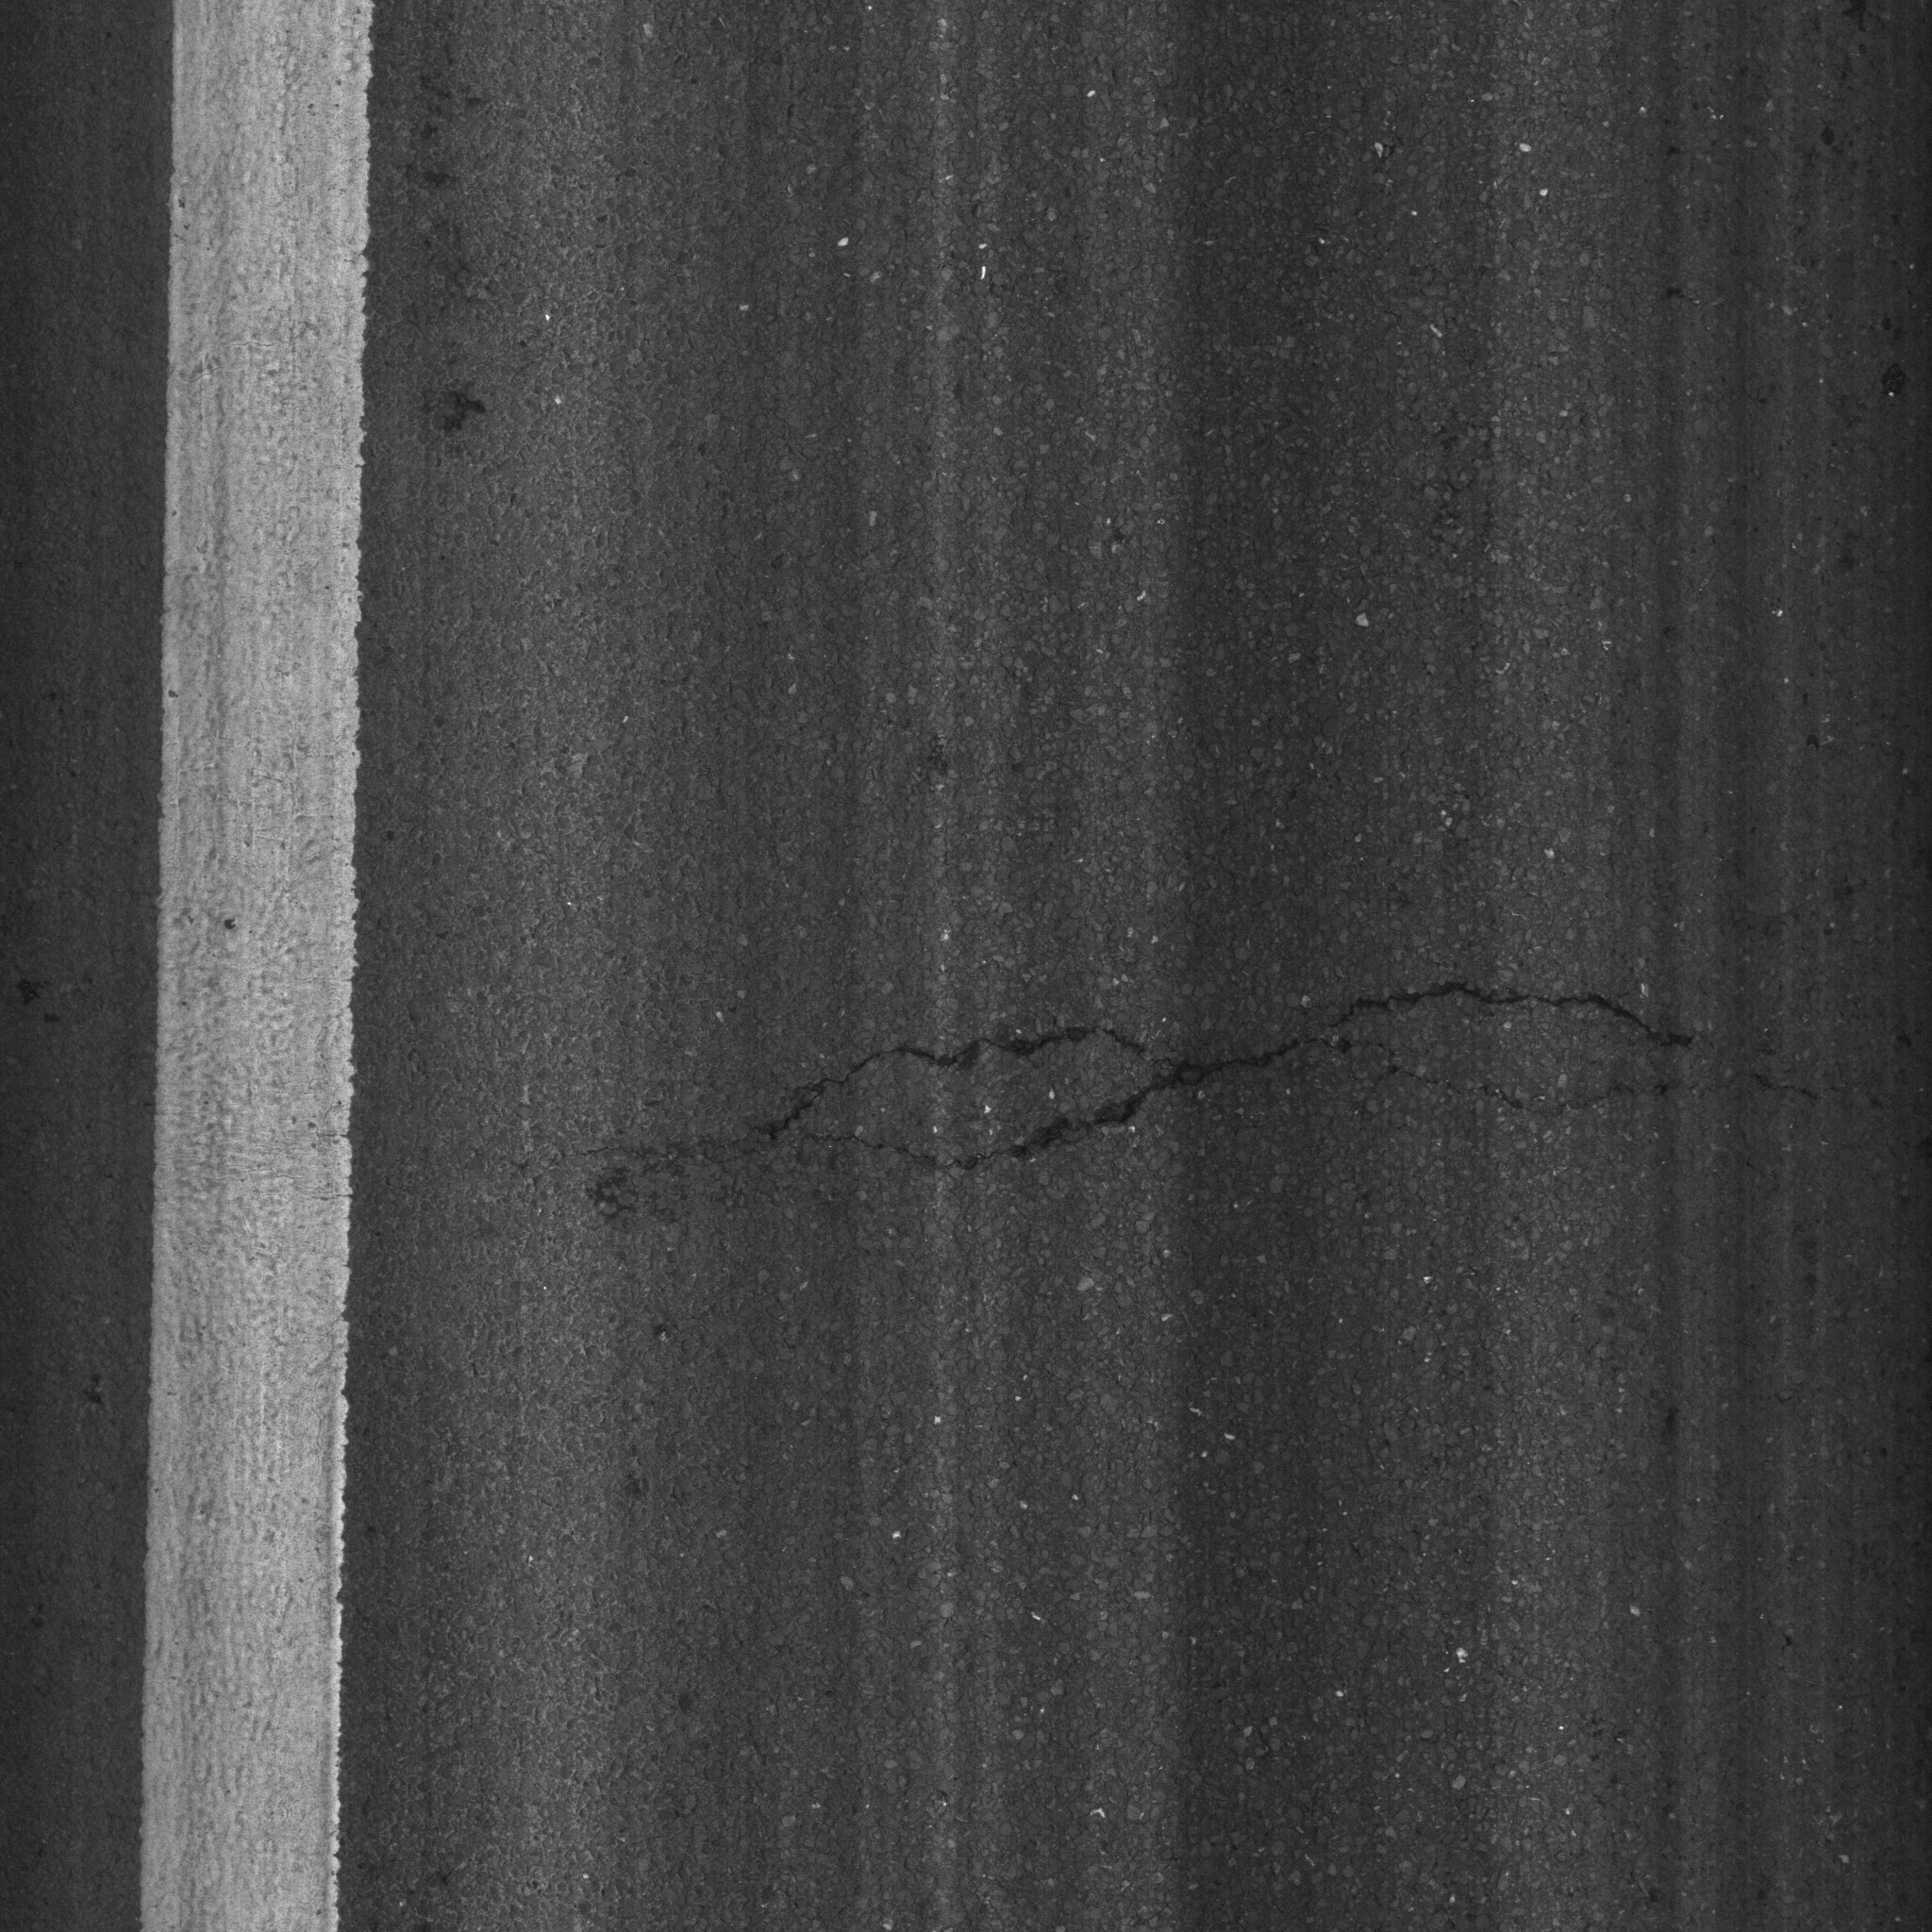transverse: (589, 934, 1920, 1251)
